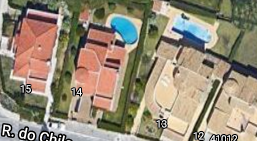pool: (175, 19, 207, 42), (112, 19, 136, 42)
